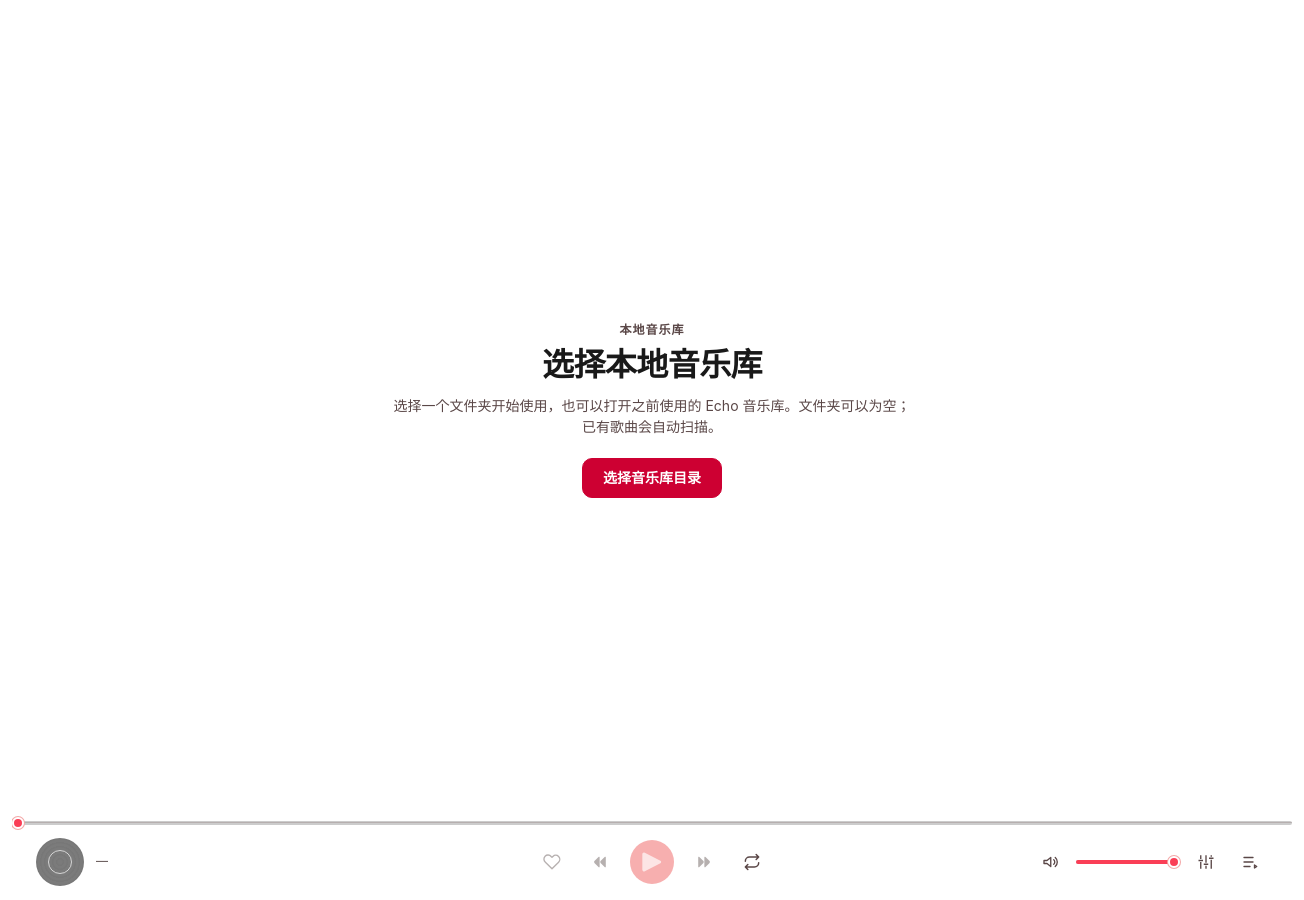
Test: Library activation without a status event › opens a songs library after selection
Click the button "选择音乐库目录" at coordinates (652, 478), box [582, 458, 722, 498]
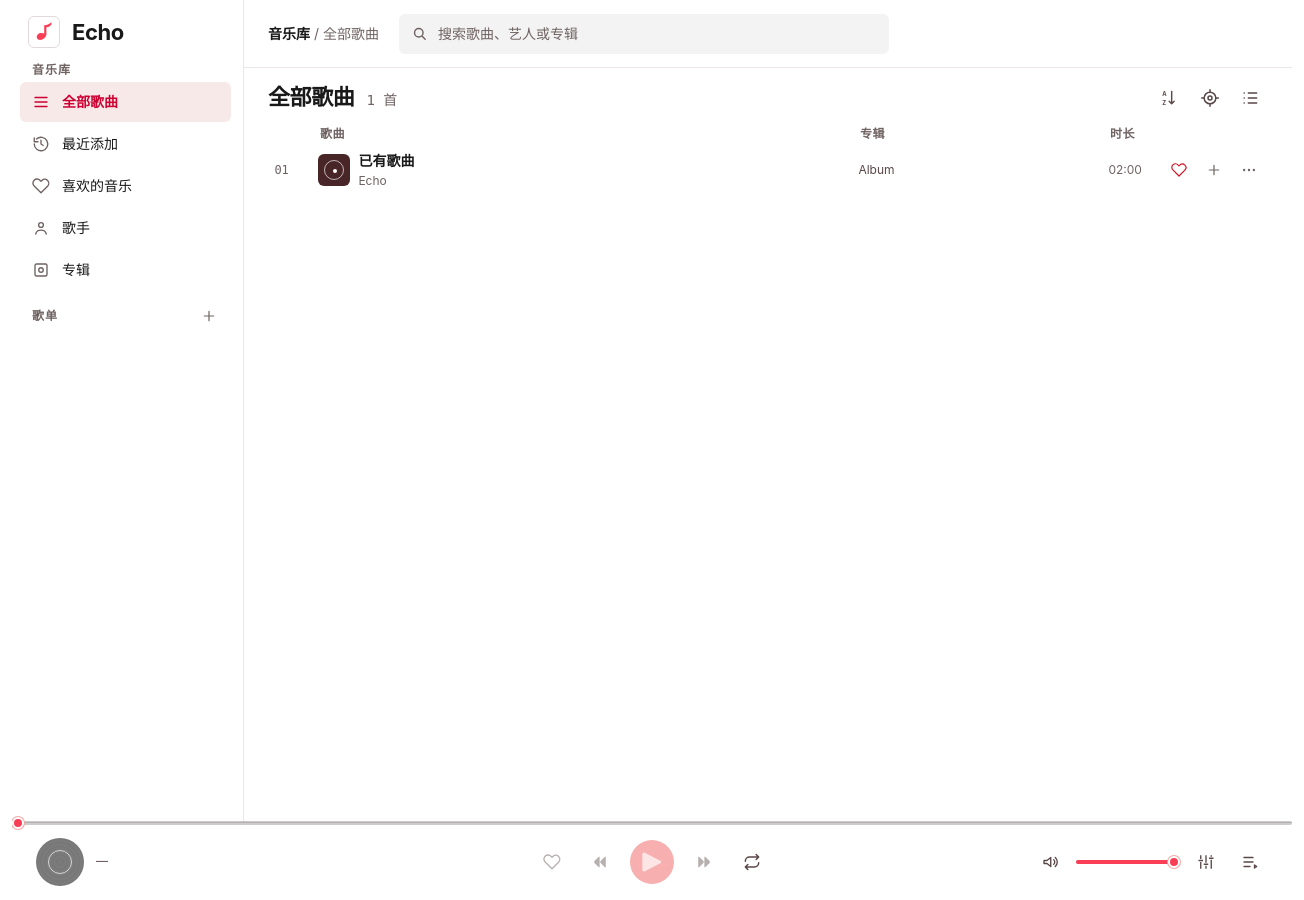
Expected: the text "已有歌曲" is shown, [358, 150, 414, 172]
Expected: the element with test id "workspace" is shown
Expected: the element with test id "choose-root" is gone
